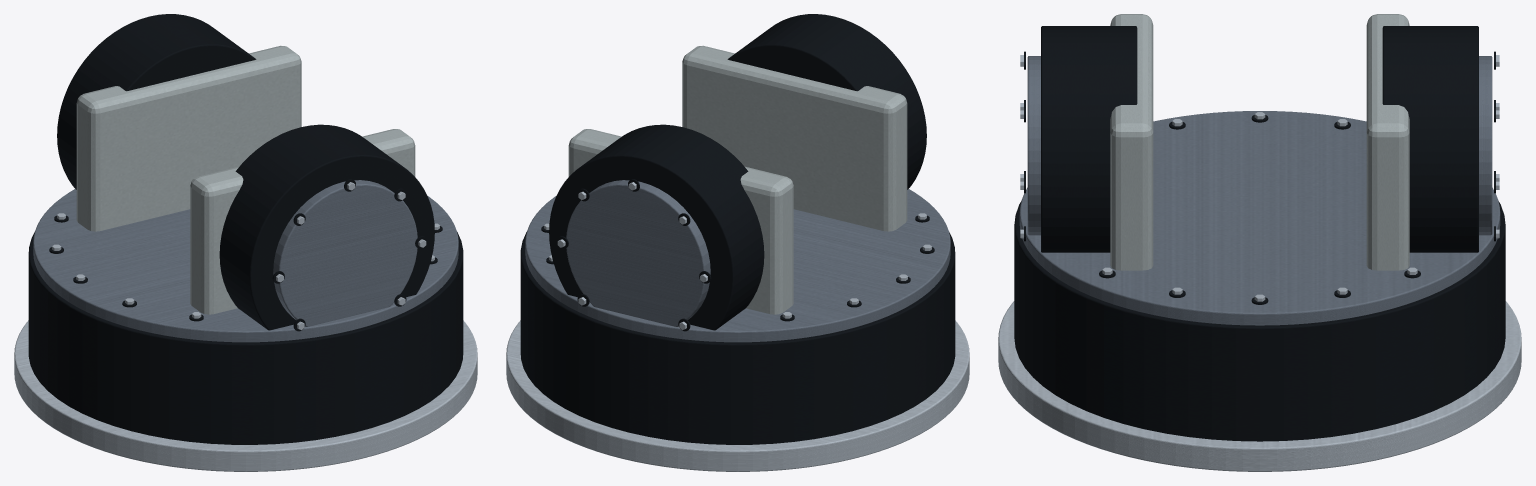
Rendered from turret.glb.
3 views of the same model, side by side, from view 1: azimuth 30°, elevation 25°; view 2: azimuth 150°, elevation 25°; view 3: azimuth 270°, elevation 25° (orthographic). The views are drawn at different scales.
Visible parts, largest first — view 1: turret; view 2: turret; view 3: turret.
Part boxes in pixels (bbox=[...]): turret: bbox=[14, 14, 477, 471]; turret: bbox=[506, 14, 969, 471]; turret: bbox=[998, 14, 1521, 471].
Bounding box in the file's own units: 0.49 × 0.3355 × 0.49.
4 materials, 4 textured.
